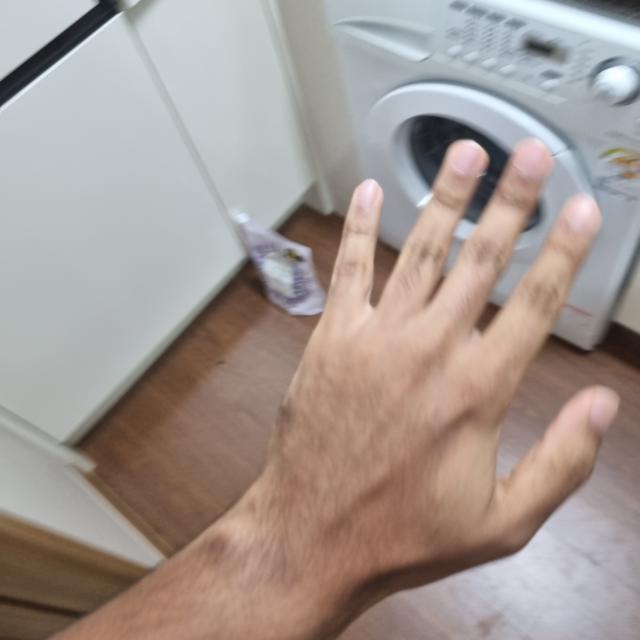Paper: (269, 140, 613, 584)
